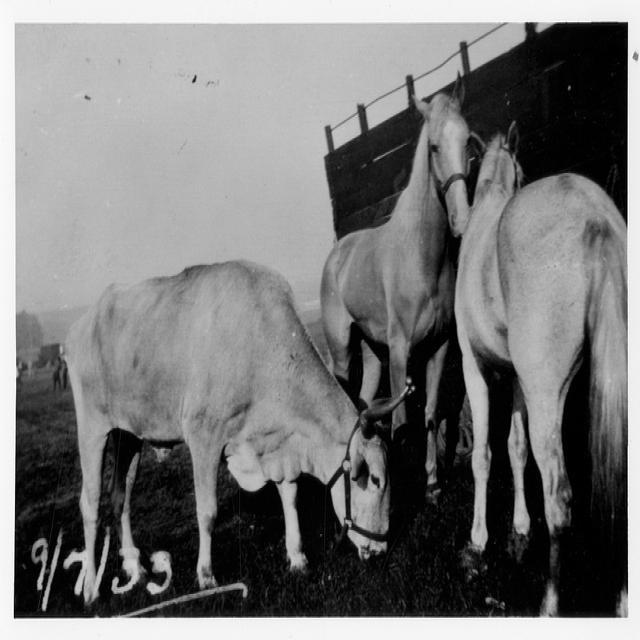cow: (53, 255, 415, 597)
